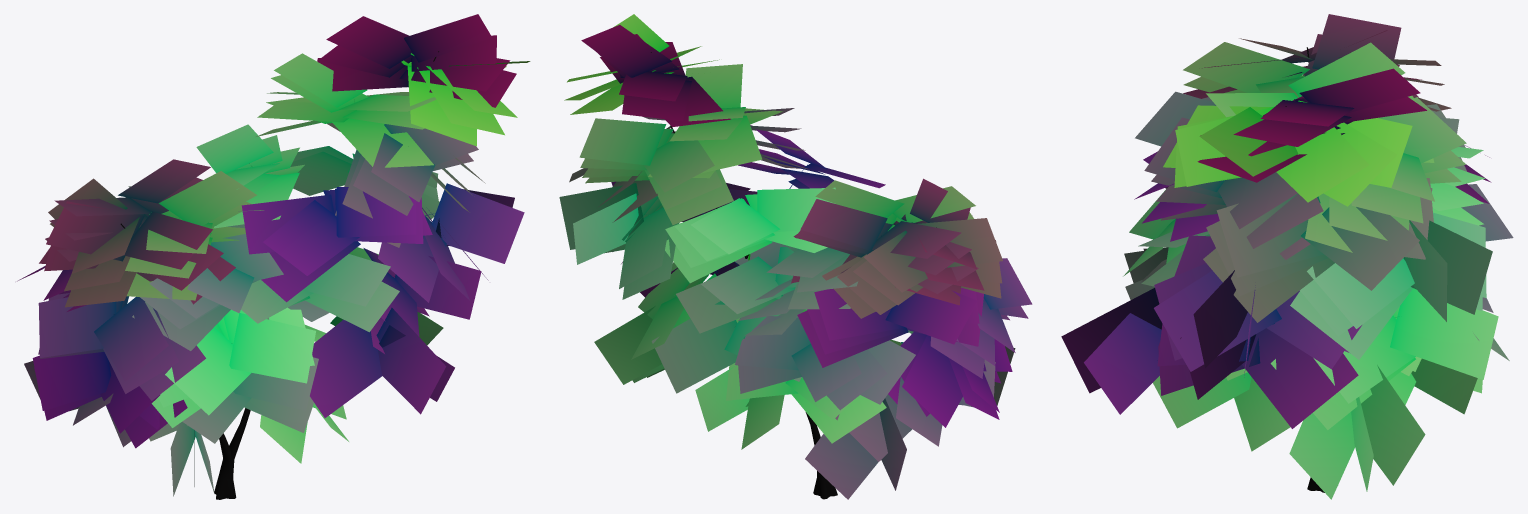
Rendered from Tree_1_11.fbx.
The picture shows the model from 3 angles, left to right: view 1: azimuth 30°, elevation 25°; view 2: azimuth 150°, elevation 25°; view 3: azimuth 270°, elevation 25°; orthographic projection. The views are drawn at different scales.
Visible parts, largest first — view 1: _11; view 2: _11; view 3: _11.
Part boxes in pixels (left/top/right/bottom): _11: left=17, top=14, right=530, bottom=499; _11: left=559, top=14, right=1032, bottom=499; _11: left=1061, top=14, right=1513, bottom=499.
Bounding box in the file's own units: 1943 × 1648 × 1314.
